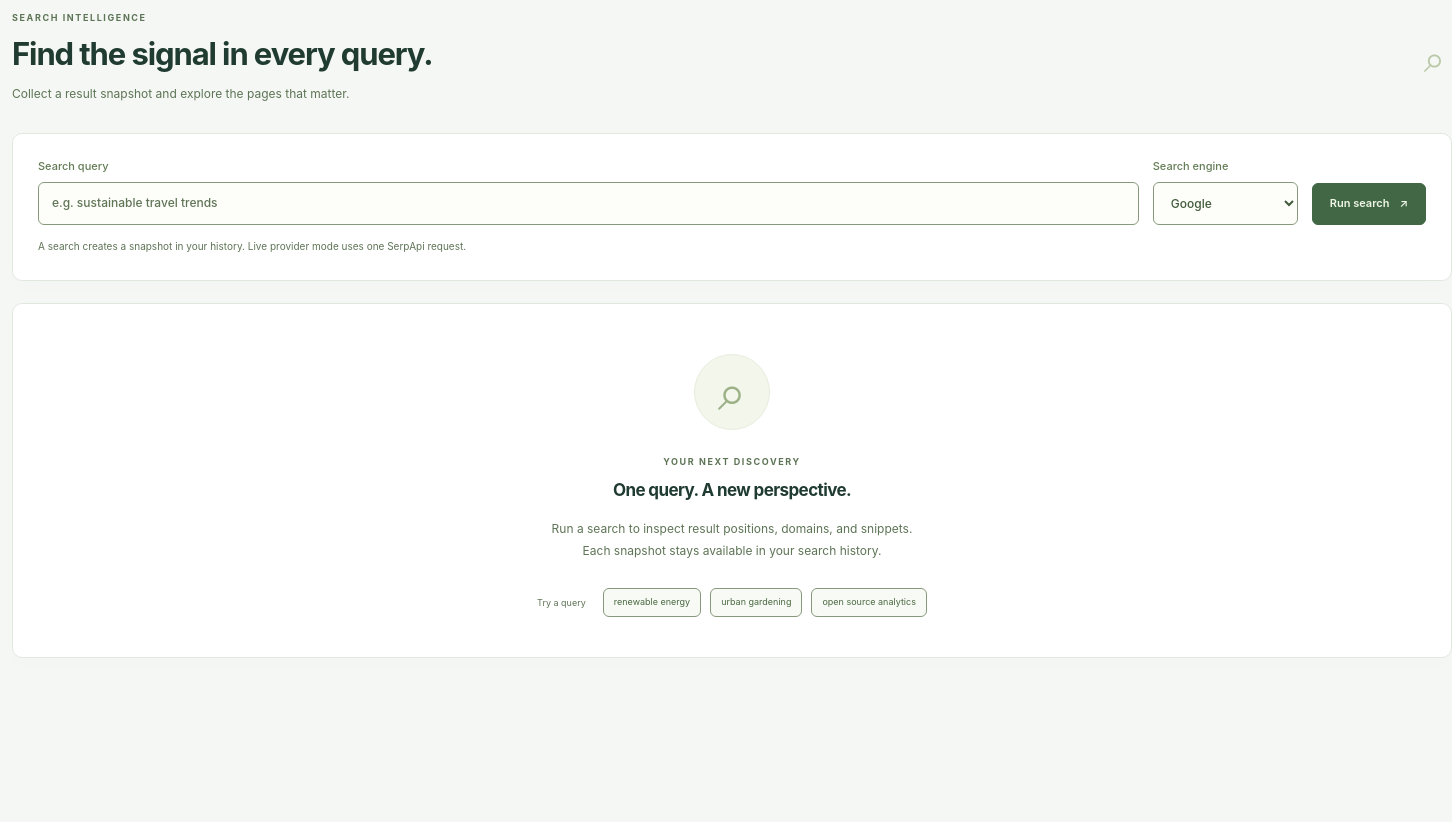
Test: Search Explorer › displays unknown duration safely without turning it into a fabricated zero
In the field labelled "Search query": point(588, 203) [38,182,1139,225], type "renewable energy"
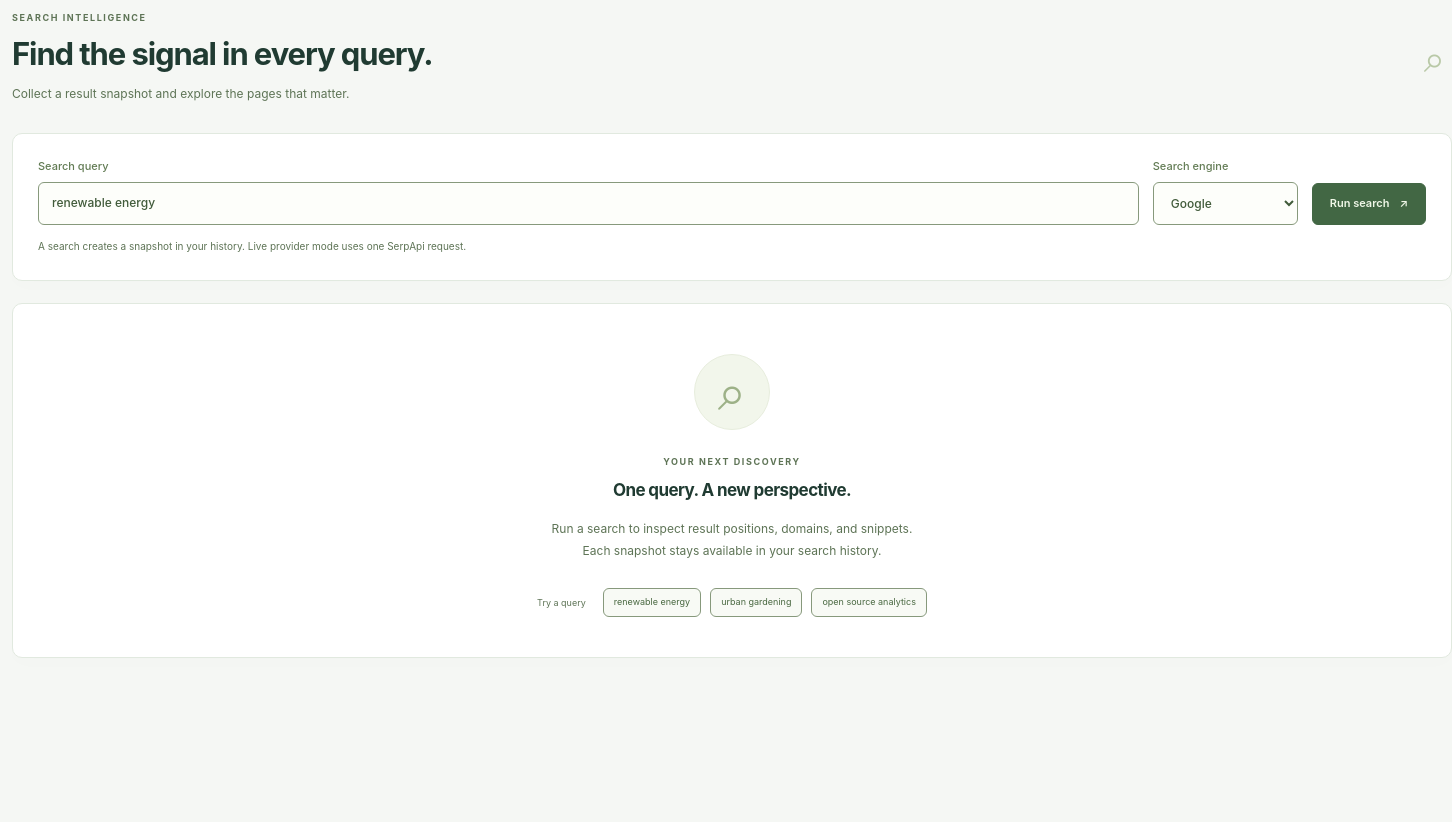
Click the button "Run search ↗": point(1369, 204) [1312,183,1426,225]
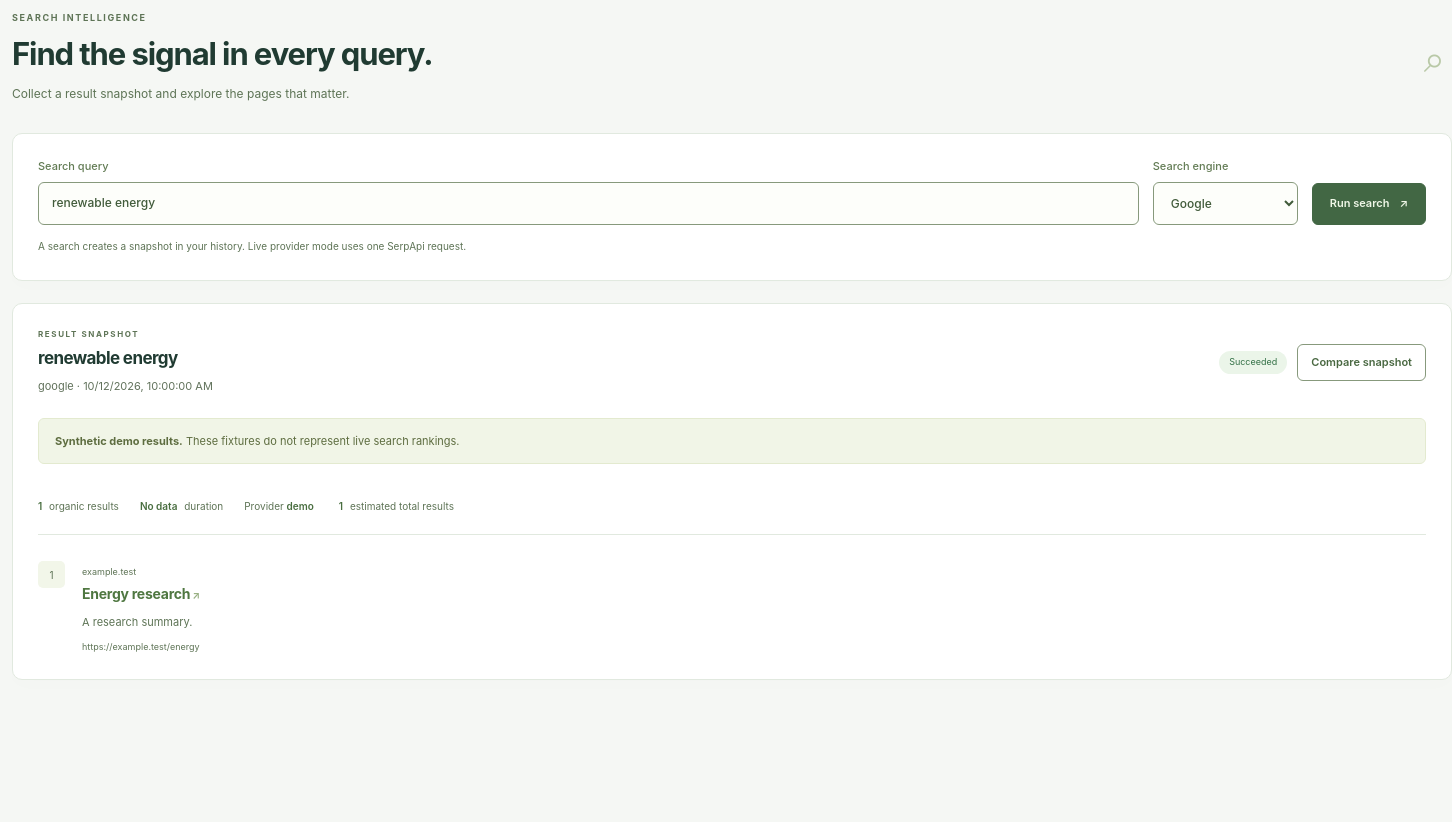
Check: the link "Energy research ↗" is shown, box [82,586,200,602]
Check: the text "No data" is shown, box [140,500,177,512]
